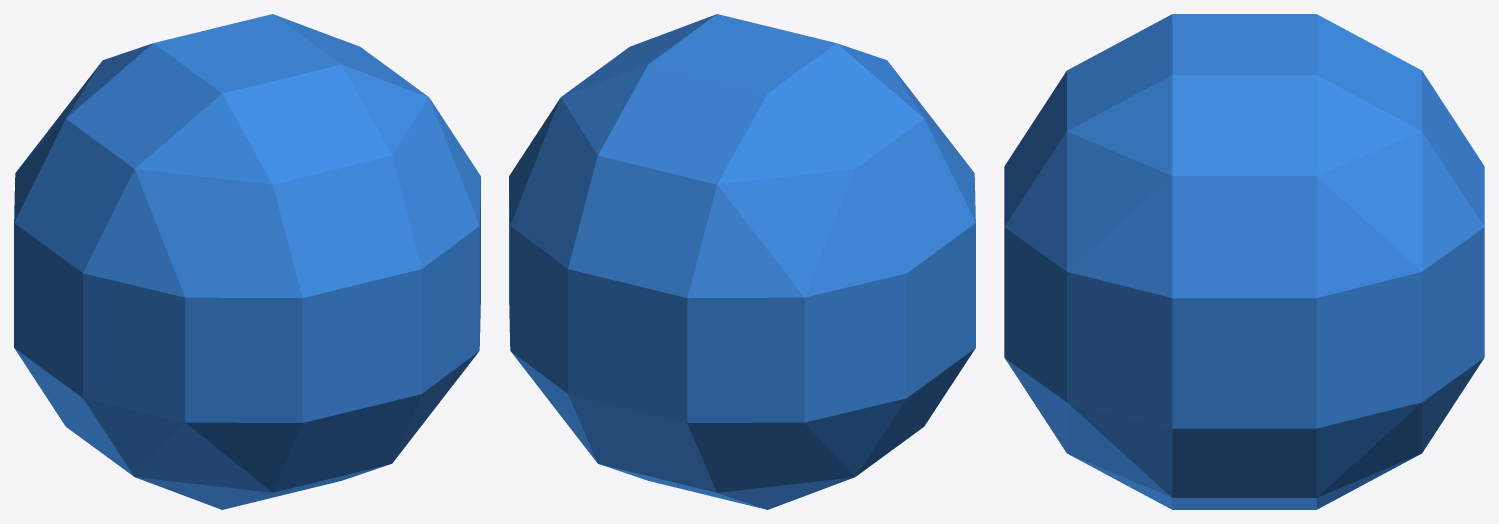
The model's file is boll.FBX.
The picture shows the model from 3 angles, left to right: view 1: azimuth 30°, elevation 25°; view 2: azimuth 150°, elevation 25°; view 3: azimuth 270°, elevation 25°; orthographic projection. The views are drawn at different scales.
Parts seen in each view (by area): view 1: VIFS001; view 2: VIFS001; view 3: VIFS001.
Boxes of the visible parts, left/top/right/bottom form: VIFS001: left=14, top=14, right=480, bottom=509; VIFS001: left=509, top=14, right=975, bottom=509; VIFS001: left=1004, top=14, right=1484, bottom=509.
Bounding box in the file's own units: 0.4 × 0.4 × 0.4.
